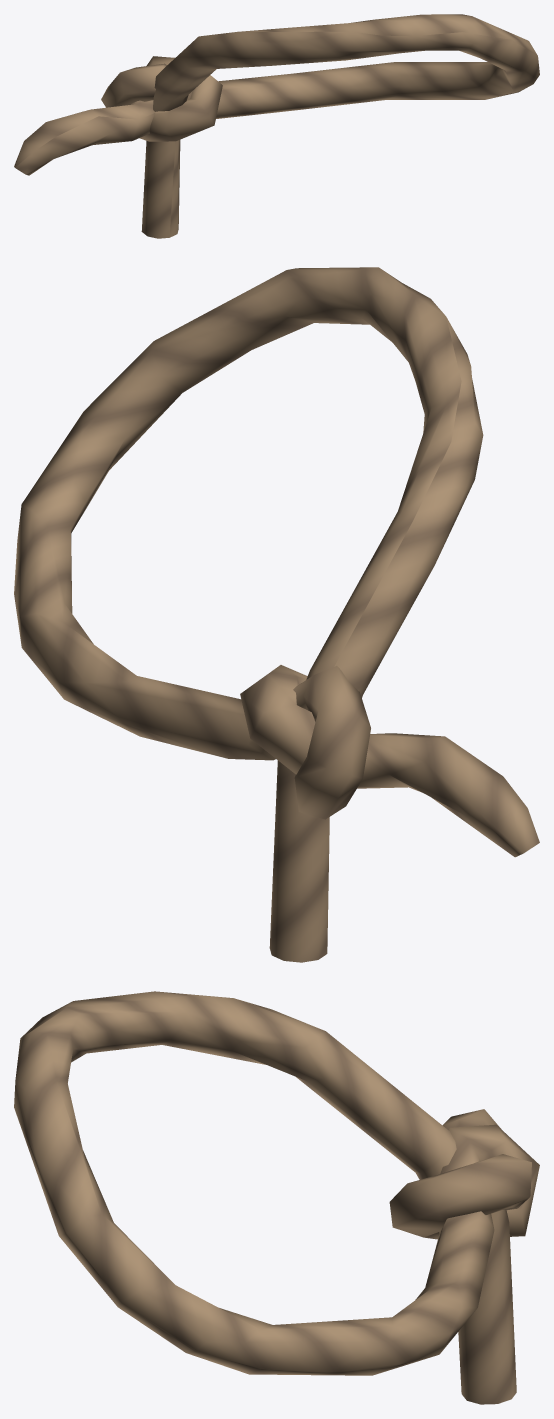
Rendered from rope_head_2.fbx.
3 renders of one model, top to bottom at view 1: azimuth 30°, elevation 25°; view 2: azimuth 150°, elevation 25°; view 3: azimuth 270°, elevation 25°, orthographic. The views are drawn at different scales.
Visible parts, largest first — view 1: rope_head__1_; view 2: rope_head__1_; view 3: rope_head__1_.
Part boxes in pixels (bbox=[...]): rope_head__1_: bbox=[14, 14, 539, 238]; rope_head__1_: bbox=[14, 267, 539, 962]; rope_head__1_: bbox=[14, 991, 539, 1404].
Size of the model in its own units: 1.58 by 1.09 by 1.19.
1 material, 1 textured.
